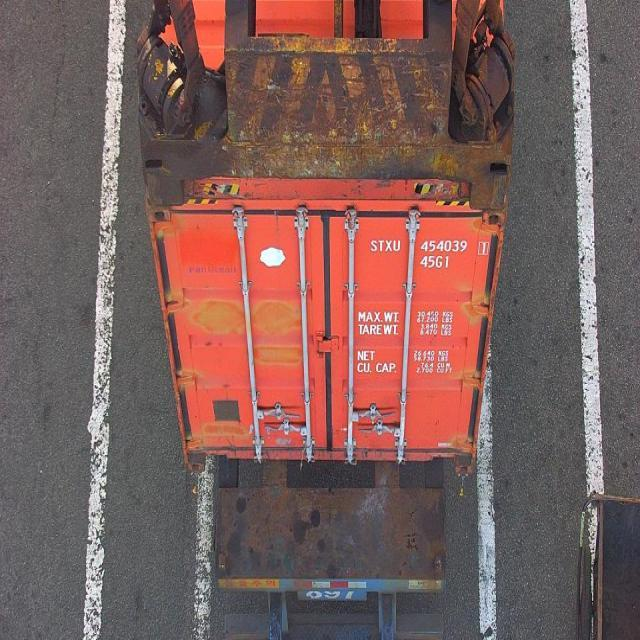ISO: (416, 256, 449, 270)
container_number: (370, 238, 490, 254)
